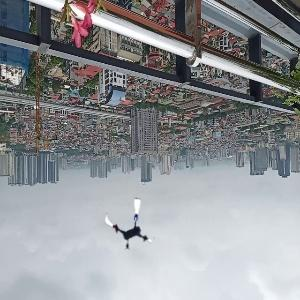drone: (102, 198, 158, 254)
